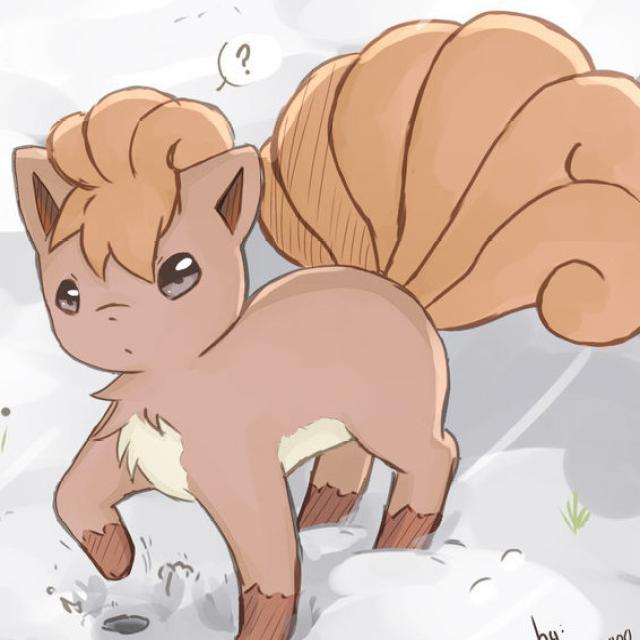Vulpix: (33, 82, 463, 578)
